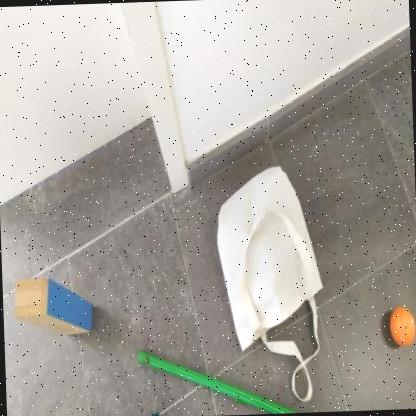bag: (208, 158, 340, 410)
